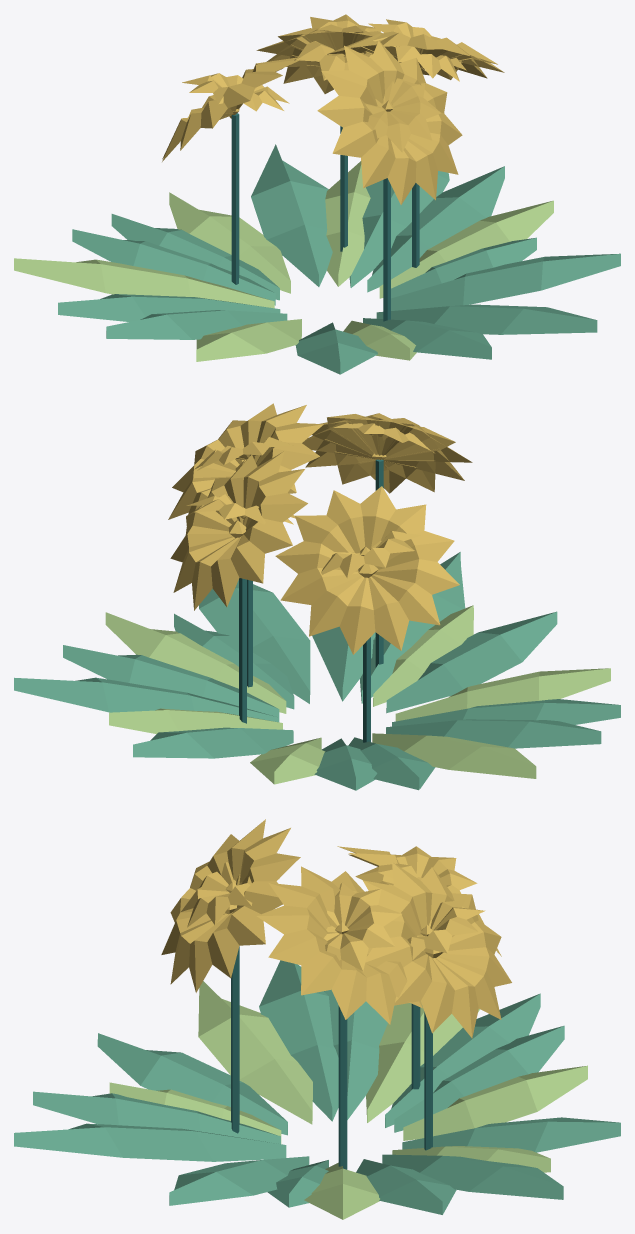
File: chrysanthemum.glb
The picture shows the model from 3 angles, top to bottom: view 1: azimuth 30°, elevation 25°; view 2: azimuth 150°, elevation 25°; view 3: azimuth 270°, elevation 25°; orthographic projection. The views are drawn at different scales.
Visible parts, largest first — view 1: Sunwen_chrysanthemum; view 2: Sunwen_chrysanthemum; view 3: Sunwen_chrysanthemum.
Boxes of the visible parts, box(x1,y1,x2,y2) form: Sunwen_chrysanthemum: box(14, 14, 620, 374); Sunwen_chrysanthemum: box(14, 403, 620, 790); Sunwen_chrysanthemum: box(14, 819, 620, 1219).
Size of the model in its own units: 1.49 by 0.8351 by 1.46.
